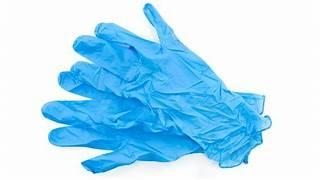Glove: (74, 4, 270, 166), (42, 94, 202, 172), (42, 71, 182, 134)
